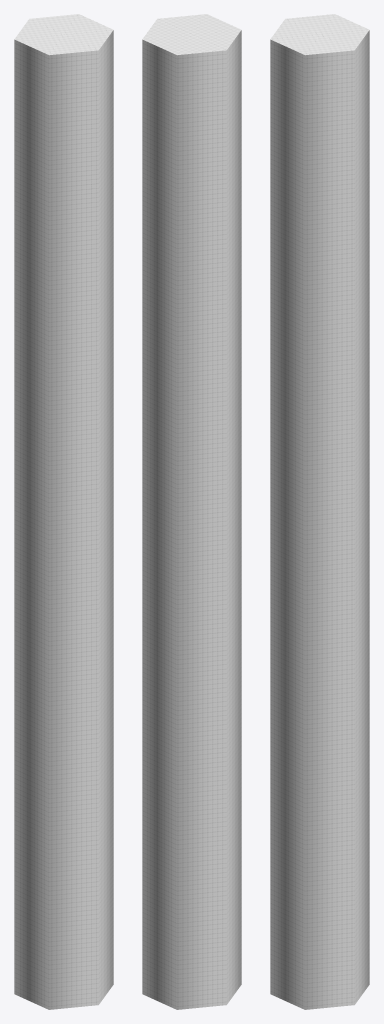
File: Building 2 hexagon.fbx
3 views of the same model, side by side, from view 1: azimuth 90°, elevation 25°; view 2: azimuth 210°, elevation 25°; view 3: azimuth 270°, elevation 25° (orthographic).
Parts seen in each view (by area): view 1: Building_2_hexagon; view 2: Building_2_hexagon; view 3: Building_2_hexagon.
Part boxes in pixels (bbox=[...]): Building_2_hexagon: bbox=[14, 14, 113, 1009]; Building_2_hexagon: bbox=[142, 14, 241, 1009]; Building_2_hexagon: bbox=[270, 14, 369, 1009].
Size of the model in its own units: 1912 by 20652 by 1949.
Materials: 1 (1 with a texture image).
